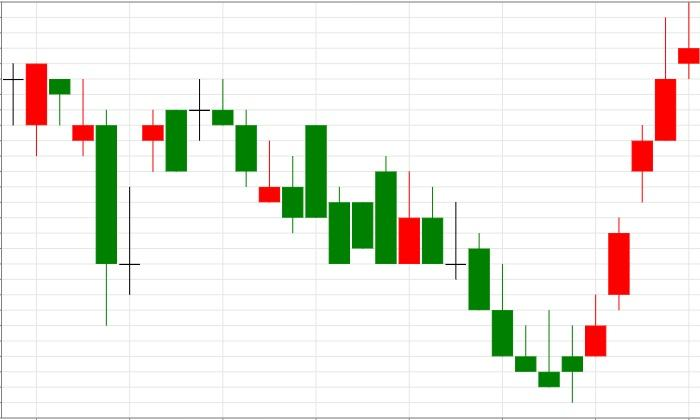inverse_hammer_rise: (374, 156, 561, 388)
